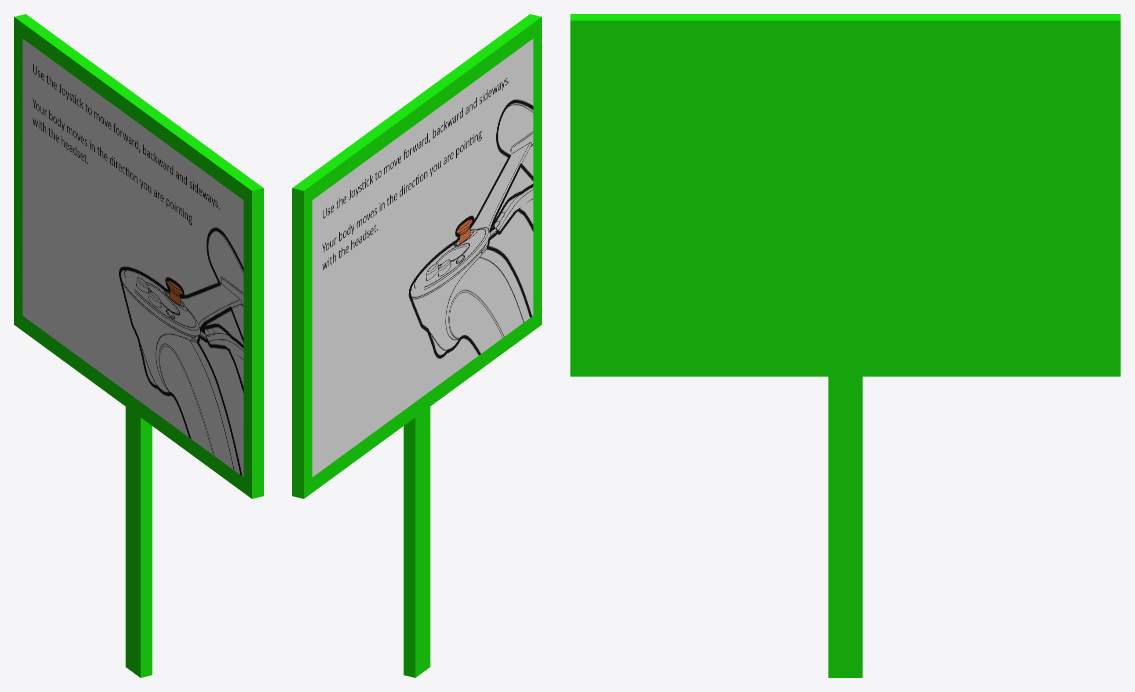
File: HintShield.fbx
The picture shows the model from 3 angles, left to right: view 1: azimuth 30°, elevation 25°; view 2: azimuth 150°, elevation 25°; view 3: azimuth 270°, elevation 25°; orthographic projection. The views are drawn at different scales.
Visible parts, largest first — view 1: Schild; view 2: Schild; view 3: Schild.
Boxes of the visible parts, x1,y1,x2,y2 form: Schild: (14, 14, 263, 677); Schild: (292, 14, 541, 677); Schild: (570, 14, 1120, 677).
Size of the model in its own units: 3.47 by 160 by 121.
